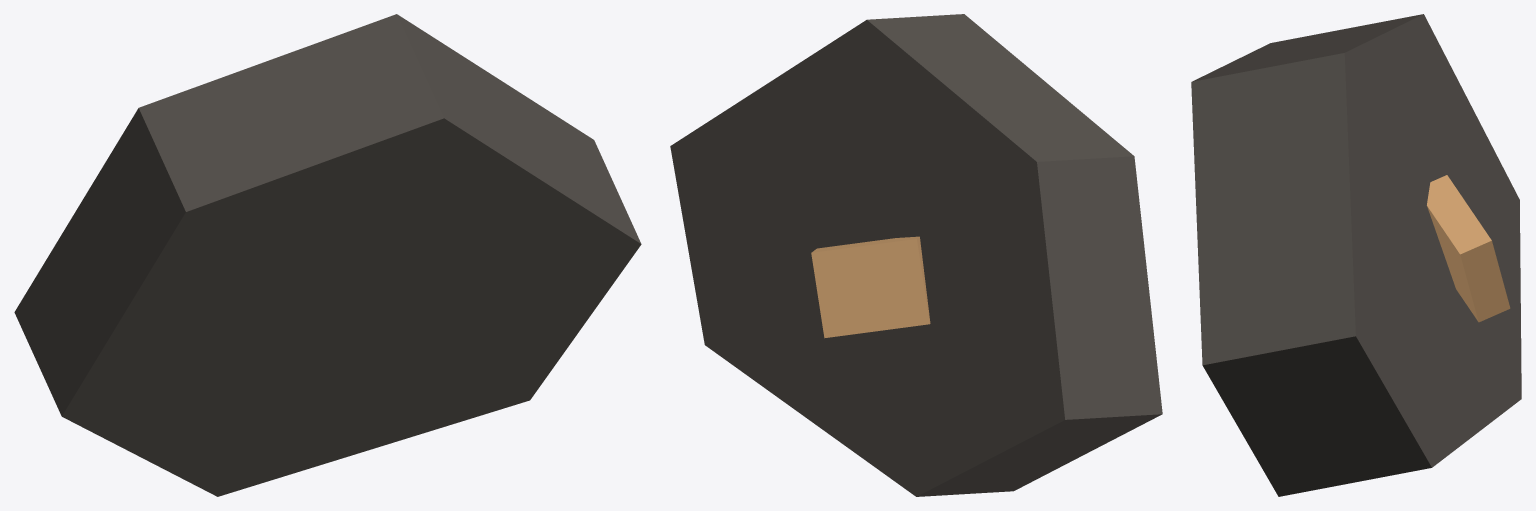
File: Debris_JaggedChunk.fbx
3 renders of one model, left to right at view 1: azimuth 30°, elevation 25°; view 2: azimuth 150°, elevation 25°; view 3: azimuth 270°, elevation 25°, orthographic. The views are drawn at different scales.
Parts seen in each view (by area): view 1: jagged_metal_chunk; view 2: jagged_metal_chunk, exposed_core; view 3: jagged_metal_chunk, exposed_core.
Boxes of the visible parts, left/top/right/bottom form: jagged_metal_chunk: left=14, top=14, right=641, bottom=496; jagged_metal_chunk: left=670, top=14, right=1162, bottom=496; exposed_core: left=811, top=236, right=930, bottom=338; jagged_metal_chunk: left=1191, top=14, right=1521, bottom=496; exposed_core: left=1427, top=175, right=1510, bottom=322.
Bounding box in the file's own units: 106 × 86.39 × 56.44.
